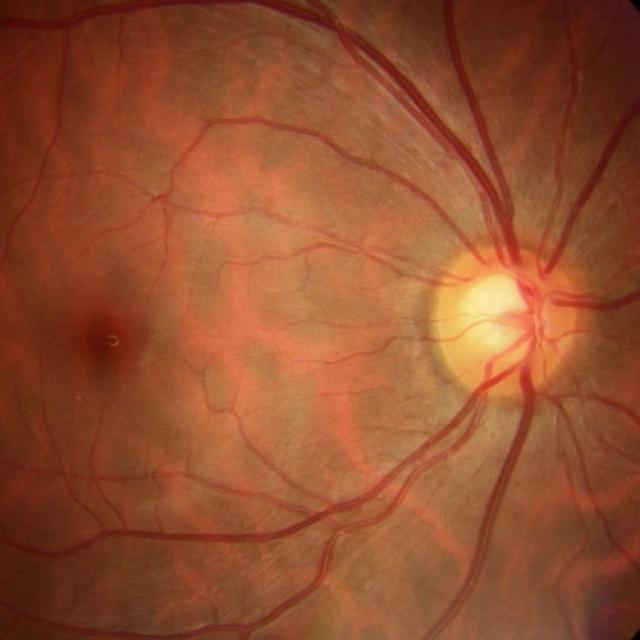OC: (462, 274, 526, 346)
OD: (433, 244, 578, 398)
